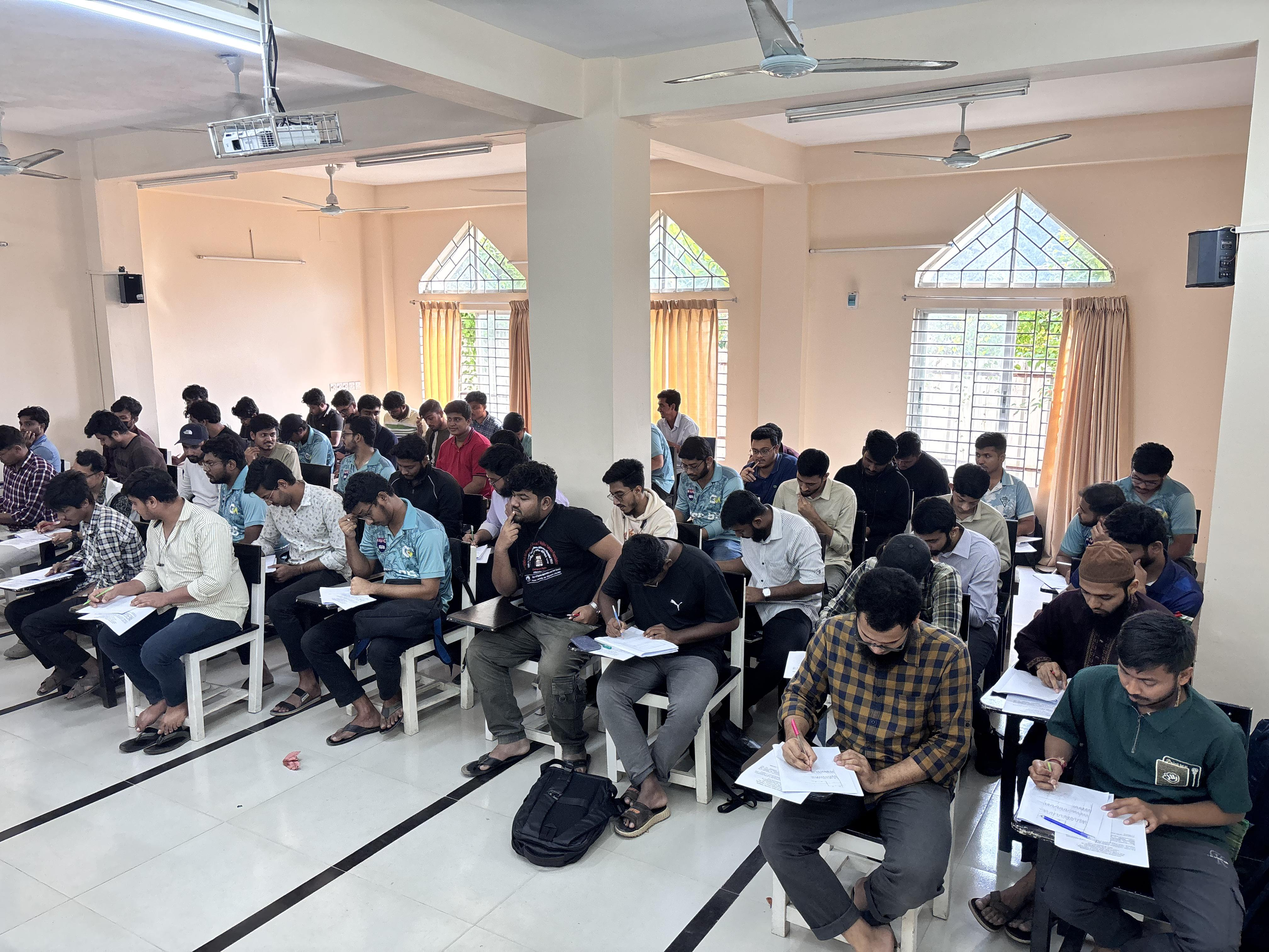copying: (76, 478, 229, 688), (464, 450, 524, 554)
hidden_communication: (19, 485, 134, 634)
no_cheating: (759, 580, 950, 890), (1037, 624, 1238, 916), (464, 484, 604, 704), (581, 536, 716, 754), (299, 482, 437, 675), (1012, 550, 1145, 724), (231, 467, 342, 617), (716, 491, 807, 638), (1113, 435, 1207, 524), (785, 452, 866, 552), (848, 419, 914, 539), (899, 506, 992, 589), (191, 447, 262, 551), (595, 454, 669, 543), (888, 422, 954, 512), (666, 444, 726, 543), (84, 411, 154, 485), (434, 401, 478, 514), (955, 428, 1027, 494), (382, 445, 449, 512), (955, 473, 1004, 550), (651, 384, 703, 452), (735, 435, 792, 496), (20, 403, 76, 459), (181, 408, 241, 457), (4, 428, 33, 519), (385, 392, 429, 444), (173, 428, 212, 482), (296, 388, 333, 441), (411, 392, 451, 438), (464, 385, 499, 436), (110, 396, 153, 430), (335, 385, 361, 416)
side_talking: (338, 419, 382, 480), (247, 421, 298, 469)
suspicious_moving: (1049, 490, 1134, 559)
